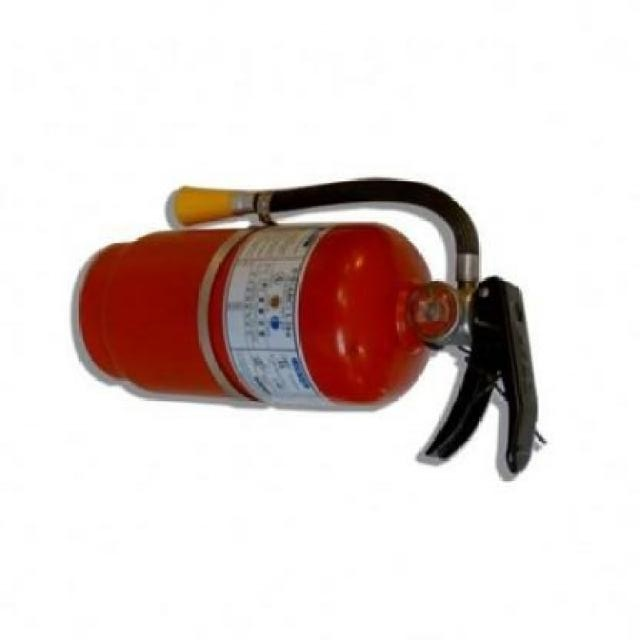fire extinguisher: (78, 179, 550, 476)
